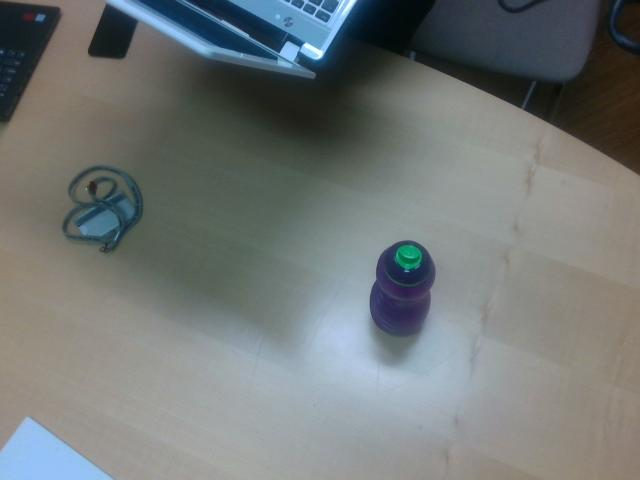bottle: (370, 239, 435, 338)
